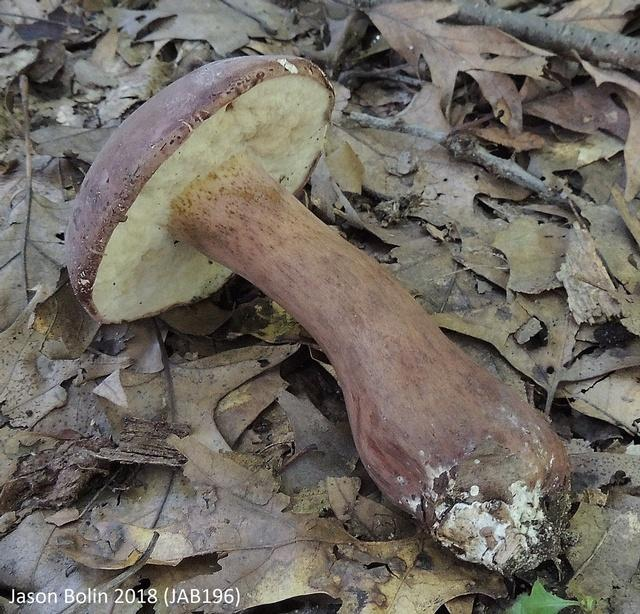poisonous_mushroom: (63, 52, 573, 577)
